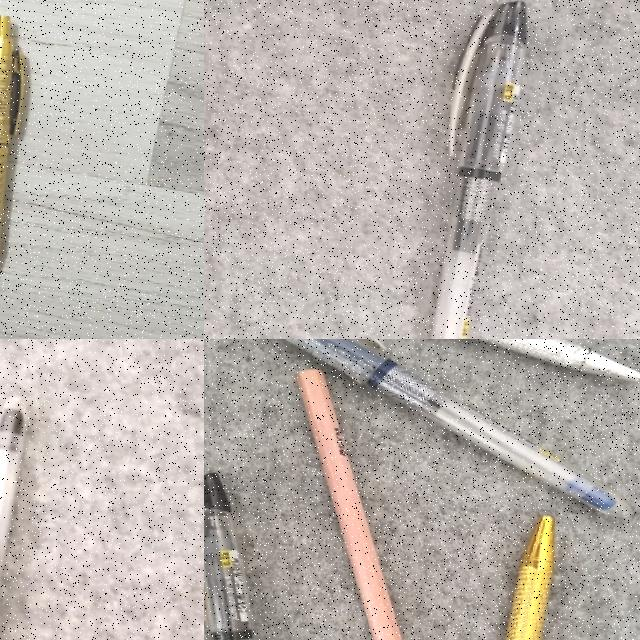pen: (275, 339, 638, 523), (432, 2, 526, 338), (204, 472, 315, 640)
pencil: (296, 368, 405, 640)
signature pen: (448, 508, 557, 640), (470, 339, 640, 387), (0, 16, 24, 251)
